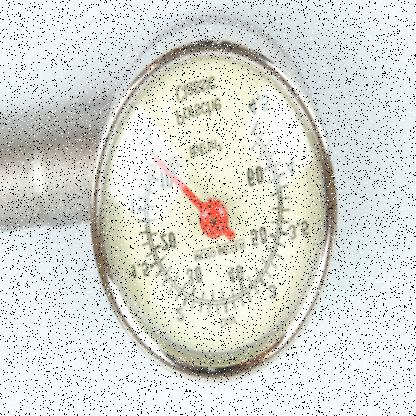needle: (153, 154, 204, 212)
